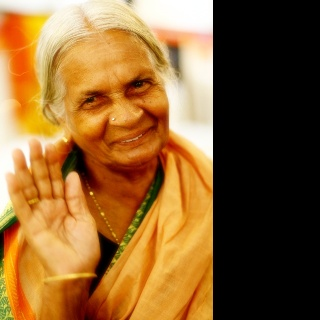without_mask: (64, 28, 169, 168)
